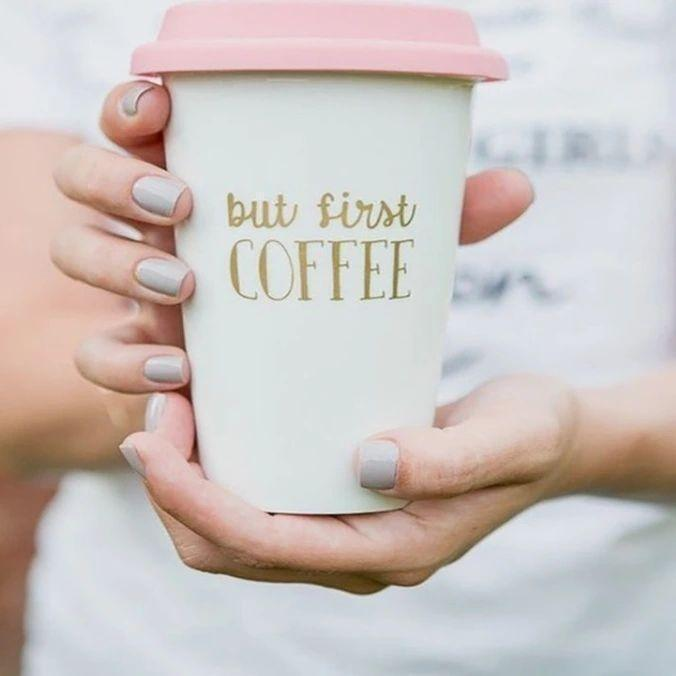cup-disposable: (123, 0, 515, 535)
